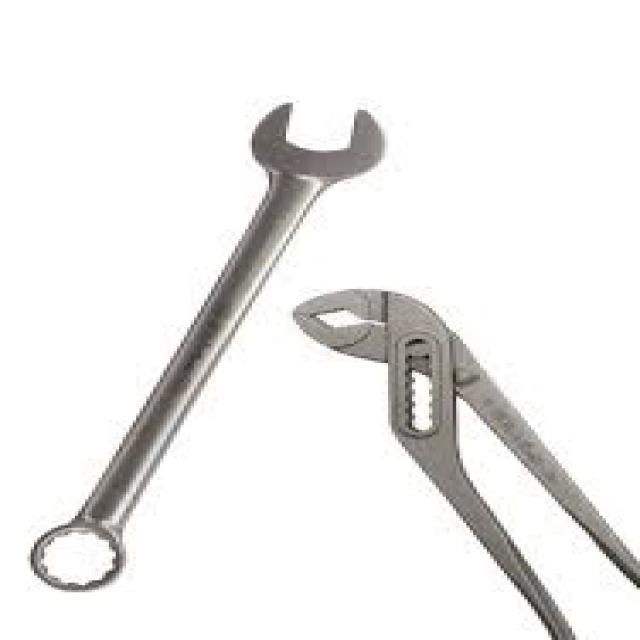wrench: (19, 99, 390, 596)
